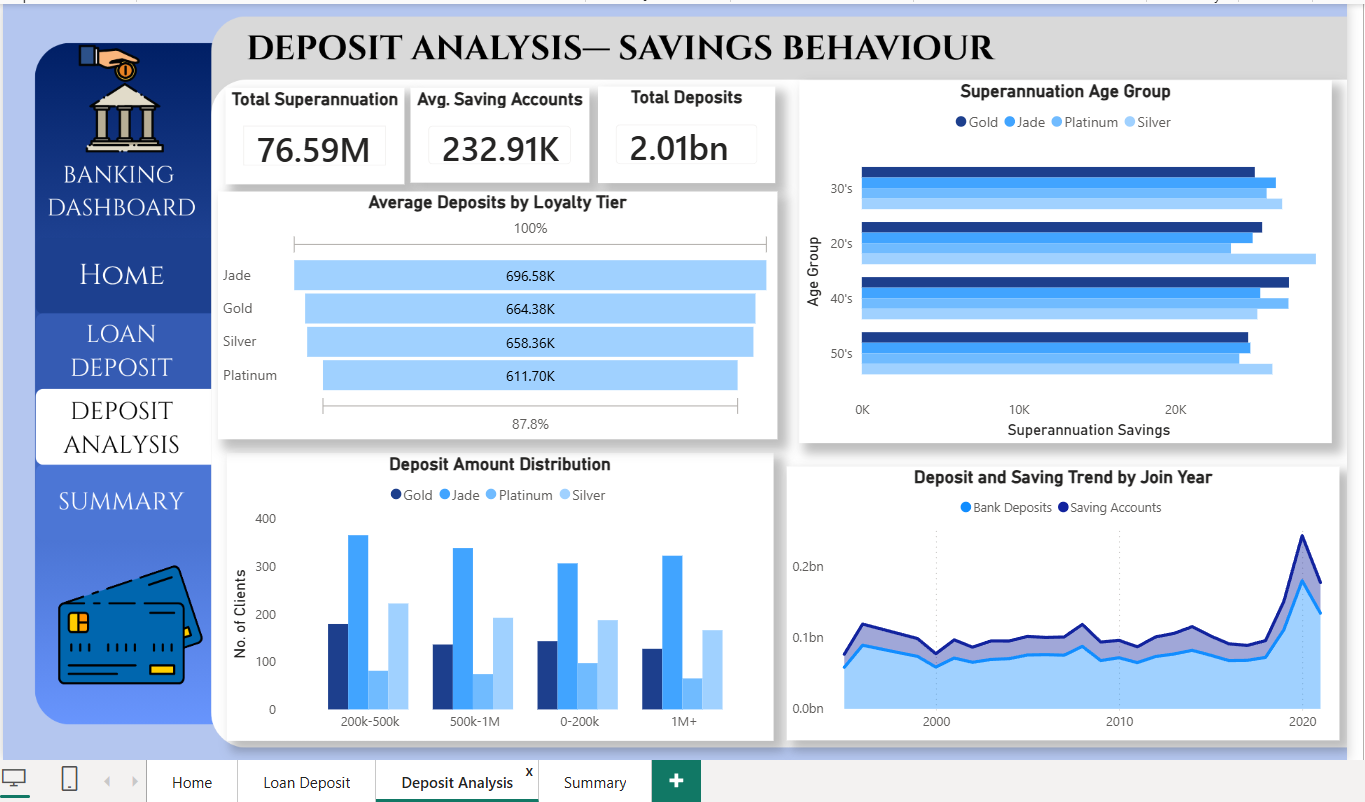

Layout of this report page (visuals, bound fields, positions):
{"tool":"powerbi","page":{"name":"Deposit Analysis","canvas":[1280,720],"ordinal":2},"visuals":[{"type":"actionButton","box":[30.2,293.7,168.8,75.5],"z":0},{"type":"actionButton","box":[30.2,226.4,168.8,67.2],"z":1000},{"type":"actionButton","box":[30.2,436.4,168.8,65.9],"z":2000},{"type":"cardVisual","title":"Total Superannuation","fields":{"Data":["Sum(banking-clients.Superannuation Savings)"]},"box":[212.1,80.1,170.6,92],"z":3000},{"type":"cardVisual","title":"Avg. Saving Accounts","fields":{"Data":["Avg(banking-clients.Saving Accounts)"]},"box":[388.6,80.1,170.6,90.5],"z":4000},{"type":"cardVisual","title":"Total Deposits","fields":{"Data":["Sum(banking-clients.Bank Deposits)"]},"box":[566.6,78.6,169.1,92],"z":5000},{"type":"clusteredColumnChart","title":"Deposit Amount Distribution","fields":{"Category":["banking-clients.Deposit Bucket"],"Y":["CountNonNull(banking-clients.Client ID)"],"Series":["banking-clients.Loyalty Classification"]},"box":[213.6,427.2,520.6,274.4],"z":6000},{"type":"stackedAreaChart","title":"Deposit and Saving Trend by Join Year","fields":{"Category":["banking-clients.Joined Bank.Variation.Date Hierarchy.Year"],"Y":["Sum(banking-clients.Bank Deposits)","Sum(banking-clients.Saving Accounts)"]},"box":[746,440.5,526.5,261],"z":7000},{"type":"funnel","title":"Average Deposits by Loyalty Tier","fields":{"Category":["banking-clients.Loyalty Classification"],"Y":["Avg(banking-clients.Bank Deposits)"]},"box":[204.7,178,532.5,235.8],"z":8000},{"type":"clusteredBarChart","title":"Superannuation Age Group","fields":{"Category":["banking-clients.Age Group"],"Y":["Avg(banking-clients.Superannuation Savings)"],"Series":["banking-clients.Loyalty Classification"]},"box":[757.9,72.7,507.3,345.6],"z":9000}]}

Visuals, with their boxes on the page's 1280x720 design canvas (x1, y1, x2, y2). These are canvas units, not pixel positions in the 1365x802 screenshot, which may show the page scaled, cropped or inside an application window:
actionButton: (x1=30, y1=294, x2=199, y2=369)
actionButton: (x1=30, y1=226, x2=199, y2=294)
actionButton: (x1=30, y1=436, x2=199, y2=502)
"Total Superannuation" cardVisual: (x1=212, y1=80, x2=383, y2=172)
"Avg. Saving Accounts" cardVisual: (x1=389, y1=80, x2=559, y2=171)
"Total Deposits" cardVisual: (x1=567, y1=79, x2=736, y2=171)
"Deposit Amount Distribution" clusteredColumnChart: (x1=214, y1=427, x2=734, y2=702)
"Deposit and Saving Trend by Join Year" stackedAreaChart: (x1=746, y1=440, x2=1272, y2=702)
"Average Deposits by Loyalty Tier" funnel: (x1=205, y1=178, x2=737, y2=414)
"Superannuation Age Group" clusteredBarChart: (x1=758, y1=73, x2=1265, y2=418)
